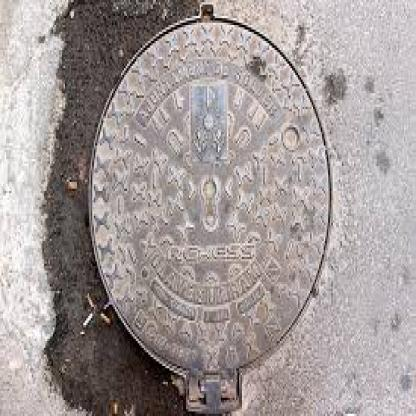closed manhole-not overflowing-: (85, 8, 336, 409)
